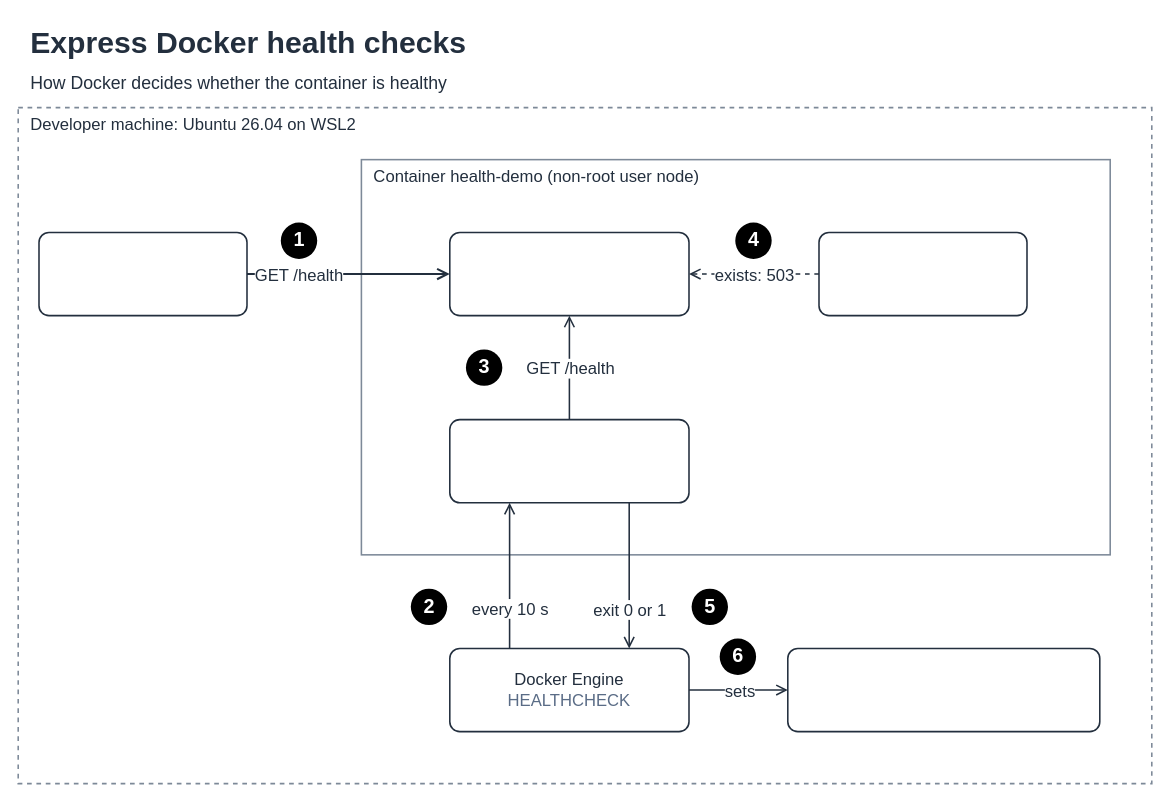
Some shapes in this 1171 by 802 pixel diagram are drawn without their labels. Each missing label, with the centre of its shape:
"curl or browser 127.0.0.1:3000" belongs at pixel 142 273.
"Express app /health: 200 or 503" belongs at pixel 569 273.
"Flag file /tmp/unhealthy" belongs at pixel 922 273.
"Health probe src/healthcheck.js" belongs at pixel 569 460.
"Health status starting, healthy, unhealthy" belongs at pixel 943 689.
